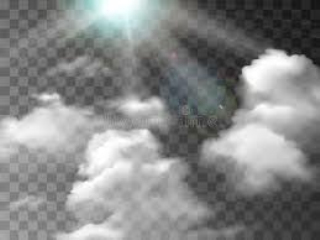smoke: (9, 100, 210, 239), (206, 46, 314, 190)
